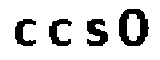0: (116, 3, 152, 49)
c: (45, 17, 76, 50), (10, 17, 39, 50)
s: (85, 17, 110, 51)
